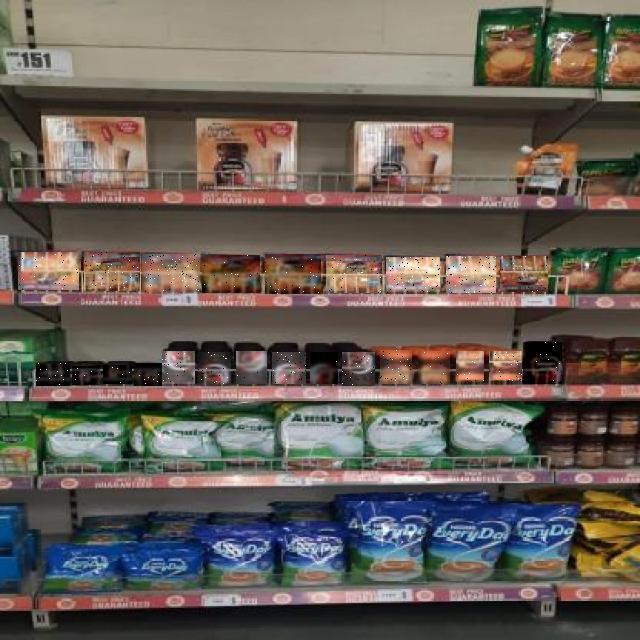Coffee: (18, 252, 79, 290), (265, 254, 321, 294), (142, 254, 200, 292), (202, 255, 260, 293), (85, 252, 141, 291), (326, 255, 382, 293), (386, 258, 440, 294), (447, 256, 497, 293), (501, 257, 549, 293), (523, 342, 562, 384), (162, 352, 195, 386), (342, 352, 375, 386), (198, 352, 231, 385), (380, 351, 412, 385), (272, 353, 306, 385), (418, 351, 450, 384), (489, 352, 522, 384), (236, 351, 267, 384), (456, 352, 484, 384), (310, 353, 338, 385), (36, 363, 70, 386), (135, 363, 163, 386), (103, 365, 132, 384), (72, 366, 100, 385)
